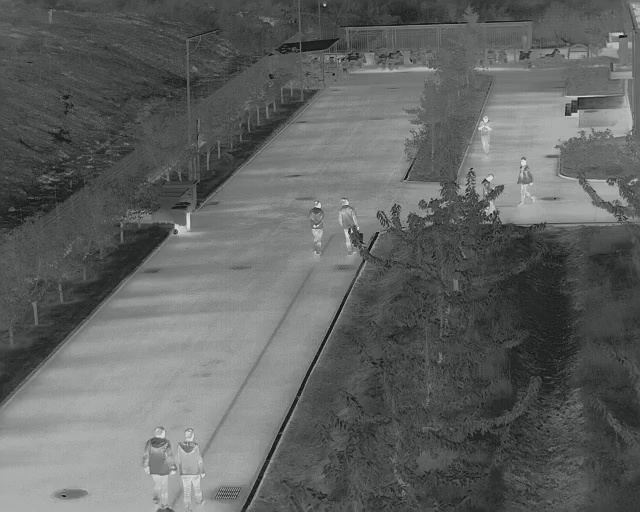person: (141, 426, 174, 512), (175, 428, 207, 510), (337, 196, 359, 255), (515, 156, 536, 208), (308, 198, 326, 257), (478, 115, 495, 156)
